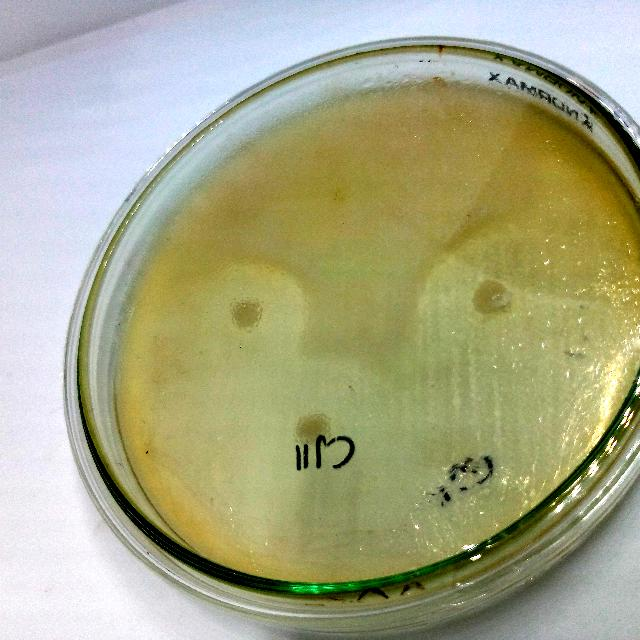colony: (224, 290, 272, 336), (468, 278, 516, 320), (293, 405, 333, 449)
